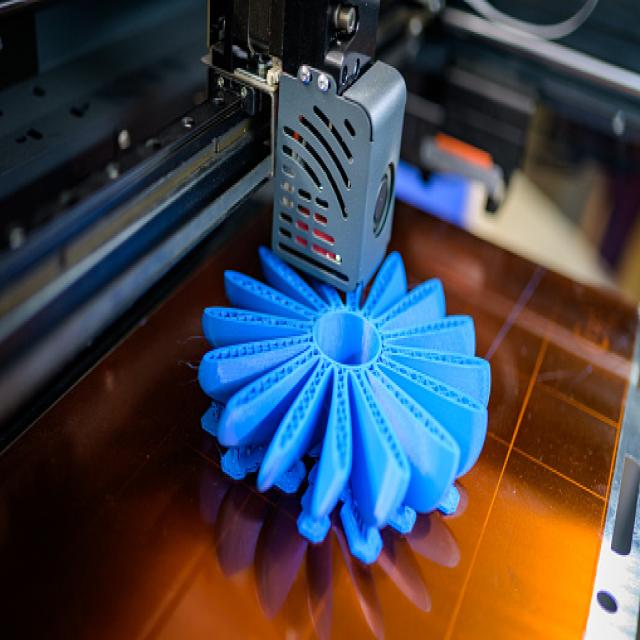Without deffect: (205, 223, 496, 578)
